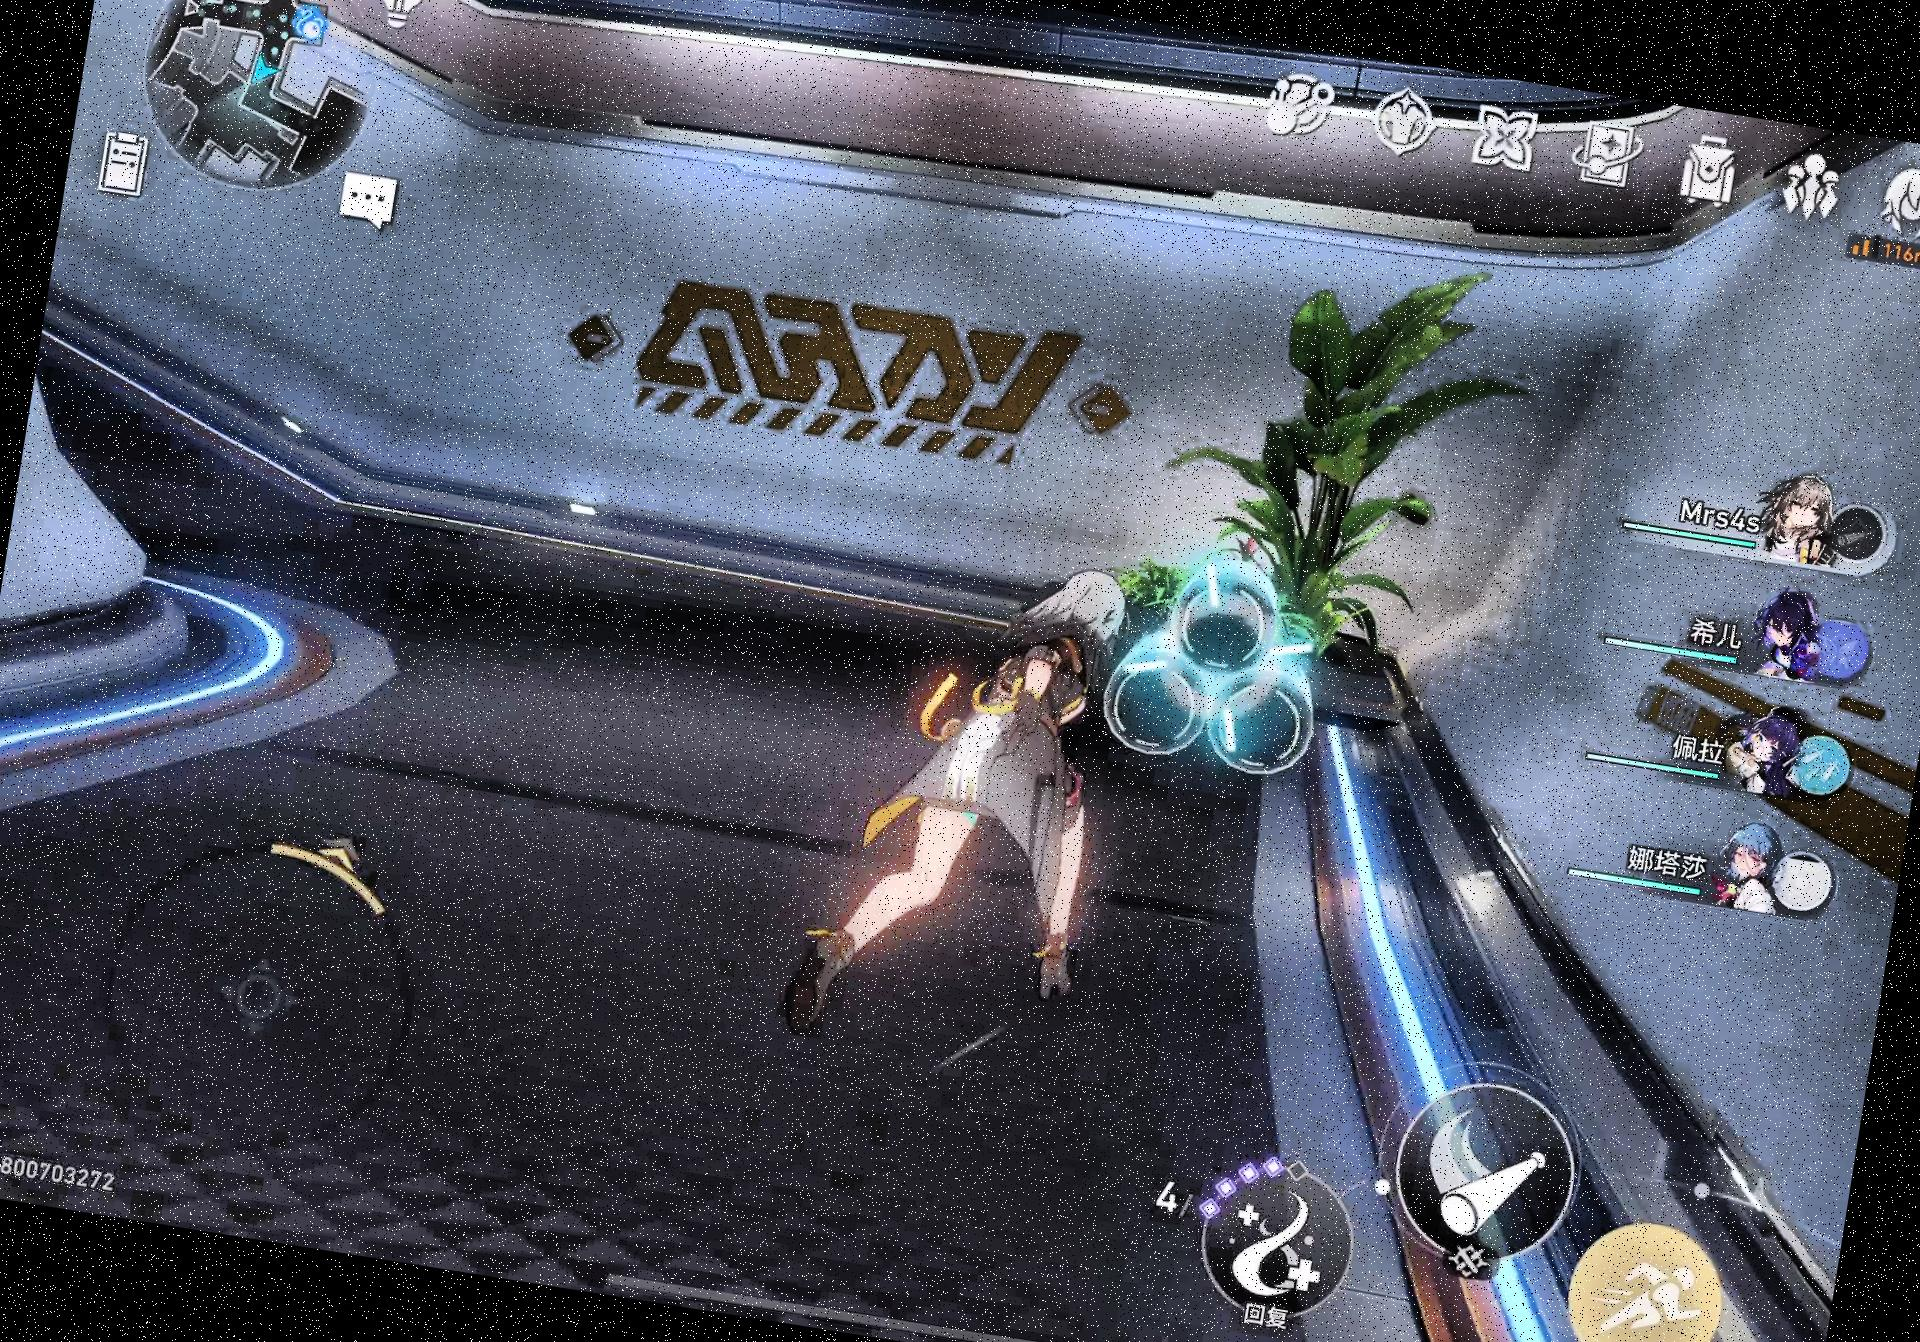Box: (1102, 540, 1339, 785)
Self: (766, 527, 1160, 1098)
